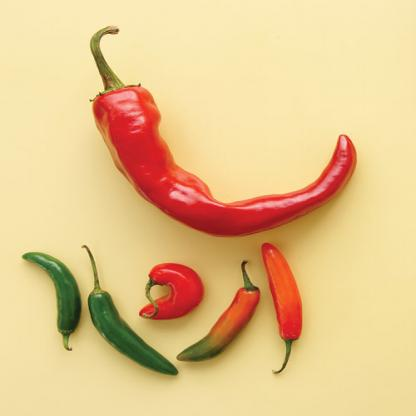--: (74, 20, 374, 242), (178, 252, 260, 372), (258, 238, 323, 372), (19, 247, 86, 356)
